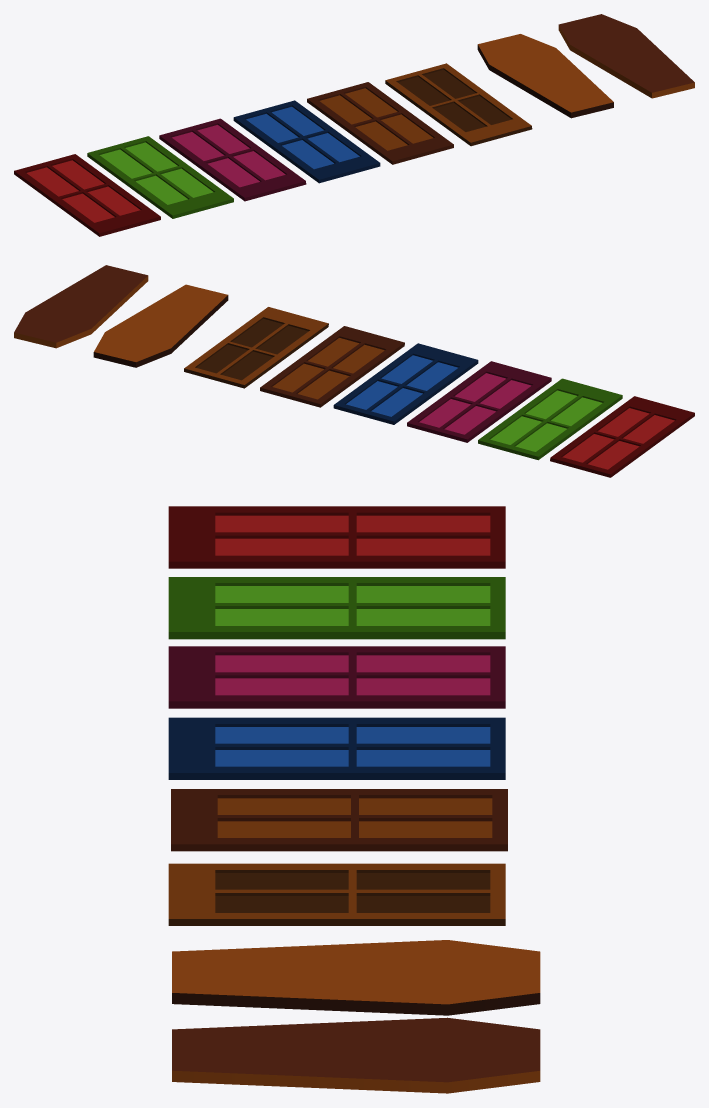
The model's file is Doors.fbx.
3 renders of one model, top to bottom at view 1: azimuth 30°, elevation 25°; view 2: azimuth 150°, elevation 25°; view 3: azimuth 270°, elevation 25°, orthographic. The views are drawn at different scales.
Parts seen in each view (by area): view 1: PivotDoor004, PivotDoor003, PivotDoor001, PivotDoor005, PivotDoor006, PivotDoor002, Box002, Box001; view 2: PivotDoor004, PivotDoor006, PivotDoor001, PivotDoor002, PivotDoor003, PivotDoor005, Box001, Box002; view 3: Box001, Box002, PivotDoor003, PivotDoor006, PivotDoor001, PivotDoor004, PivotDoor005, PivotDoor002.
Part boxes in pixels (left/top/right/bottom): PivotDoor004: left=233, top=100, right=380, bottom=183; PivotDoor003: left=159, top=118, right=306, bottom=201; PivotDoor001: left=385, top=63, right=532, bottom=146; PivotDoor005: left=87, top=136, right=233, bottom=218; PivotDoor006: left=14, top=154, right=160, bottom=236; PivotDoor002: left=307, top=82, right=453, bottom=164; Box002: left=558, top=14, right=694, bottom=98; Box001: left=477, top=34, right=613, bottom=118; PivotDoor004: left=333, top=343, right=478, bottom=424; PivotDoor006: left=550, top=396, right=694, bottom=477; PivotDoor001: left=184, top=307, right=328, bottom=388; PivotDoor002: left=260, top=326, right=404, bottom=407; PivotDoor003: left=407, top=361, right=551, bottom=442; PivotDoor005: left=478, top=378, right=622, bottom=460; Box001: left=93, top=284, right=228, bottom=367; Box002: left=14, top=265, right=148, bottom=348; Box001: left=172, top=940, right=540, bottom=1015; Box002: left=172, top=1017, right=540, bottom=1093; PivotDoor003: left=168, top=646, right=505, bottom=708; PivotDoor006: left=168, top=506, right=505, bottom=568; PivotDoor001: left=168, top=863, right=505, bottom=925; PivotDoor004: left=168, top=717, right=505, bottom=779; PivotDoor005: left=168, top=577, right=505, bottom=639; PivotDoor002: left=171, top=789, right=507, bottom=851.
Size of the model in its own units: 357 by 4.75 by 95.82.
